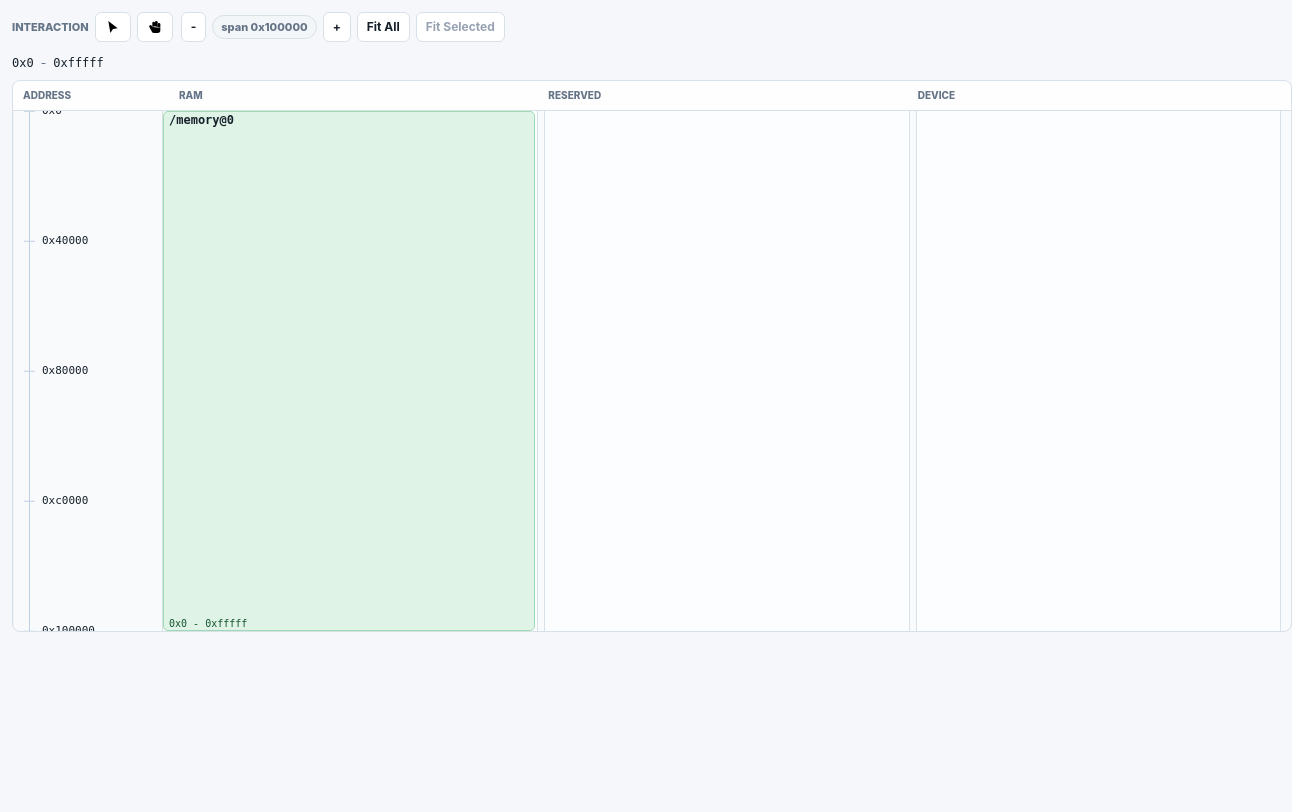
Scenario: AddressSpaceMap › zooms with controls and can fit all regions
The width and height of the screenshot is (1292, 812).
Expected: the text "span 0x100000" is shown, [212, 15, 317, 39]
Step 1. Click the button "+" → [337, 27], box [323, 12, 351, 42]
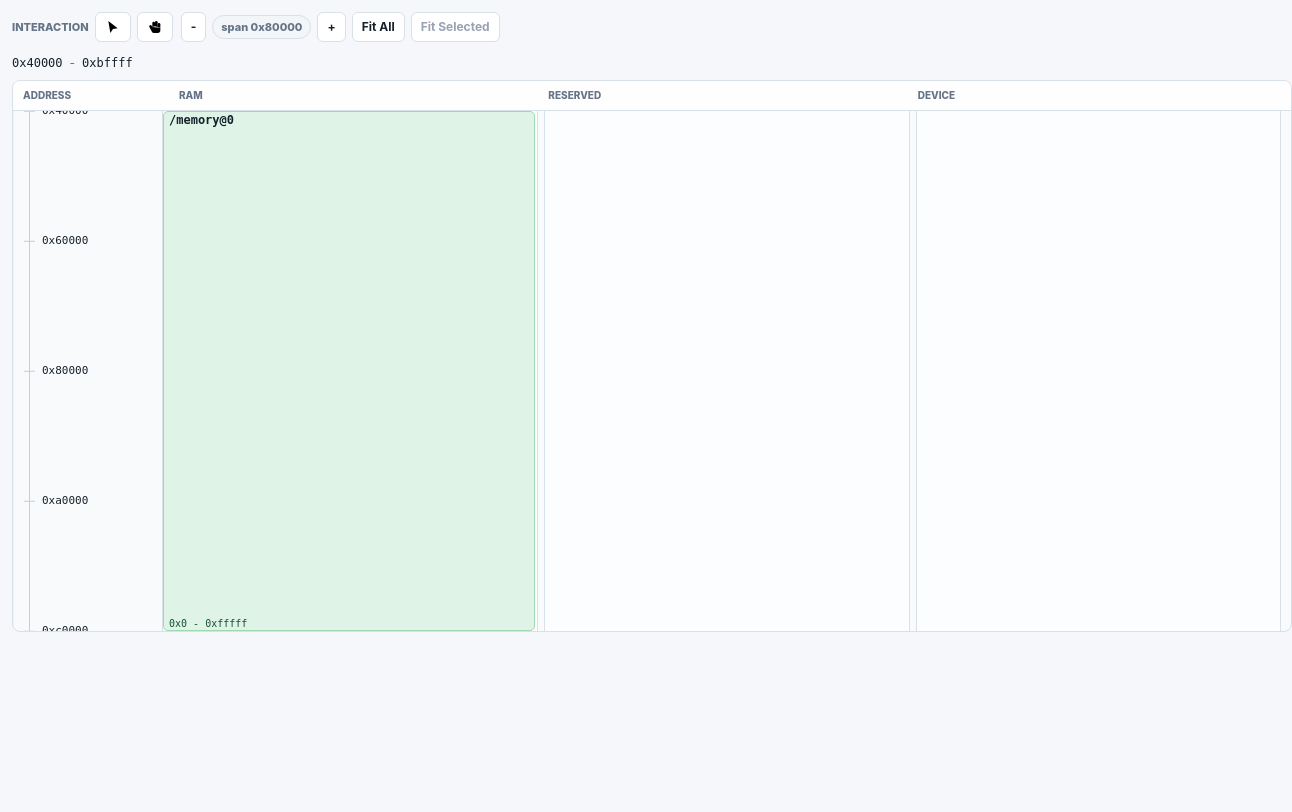
Now the text "span 0x80000" is shown, box [212, 15, 312, 39]
Step 2. Click the button "Fit All" → [378, 27], box [352, 12, 405, 42]
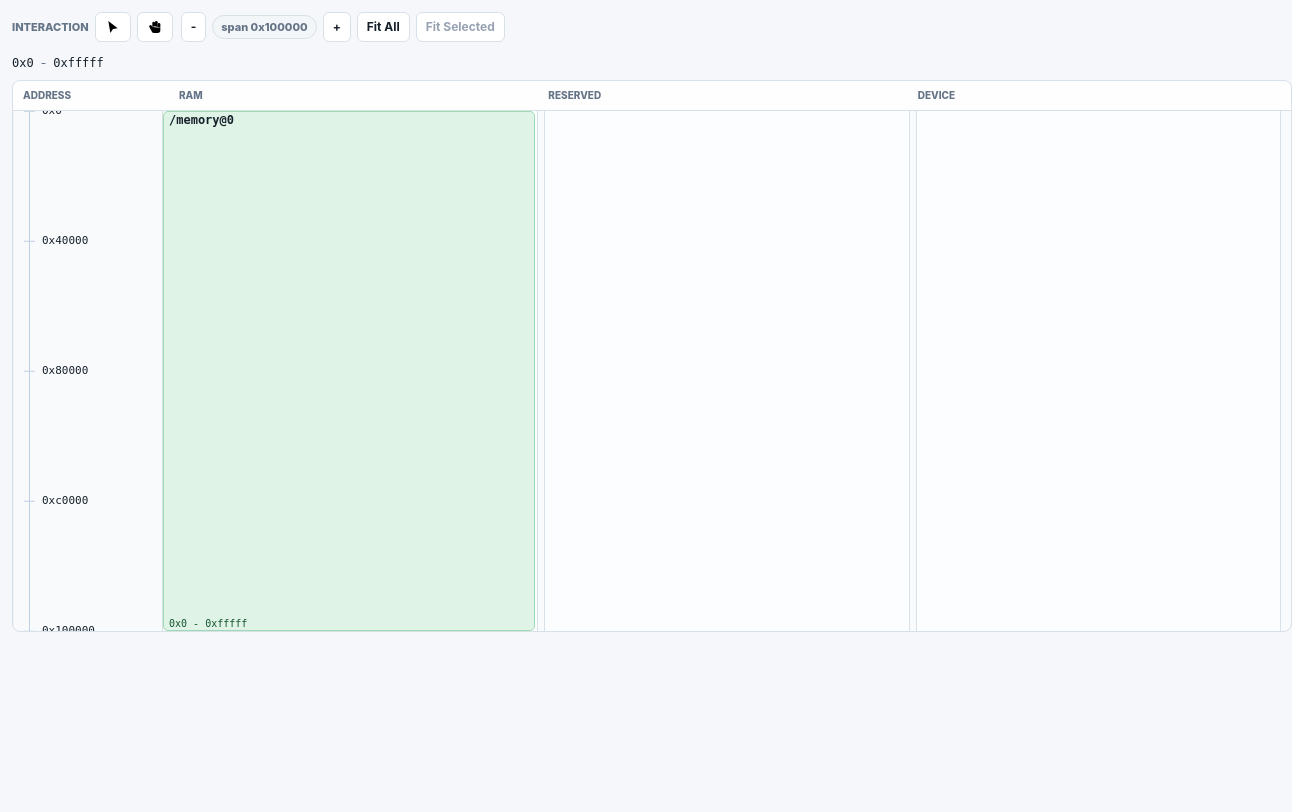
Now the text "span 0x100000" is shown, box [212, 15, 317, 39]
